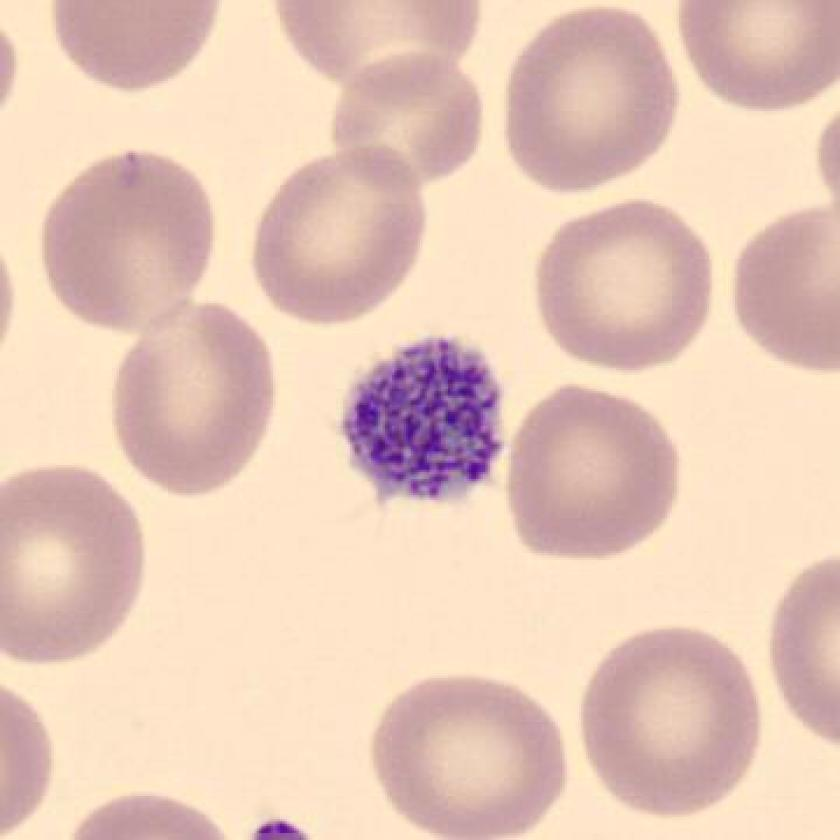platelets: (337, 325, 512, 515)
